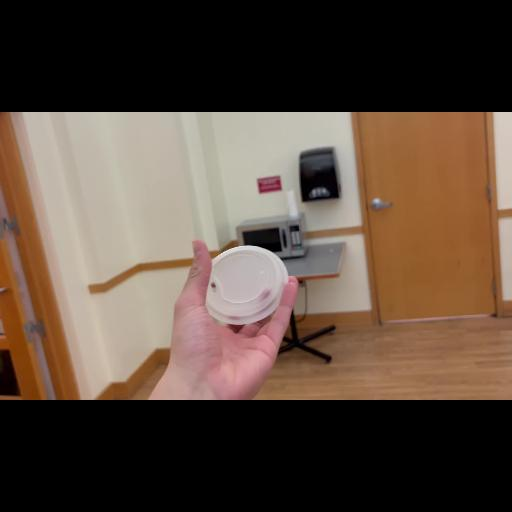lp_cup_lids: (204, 244, 288, 326)
